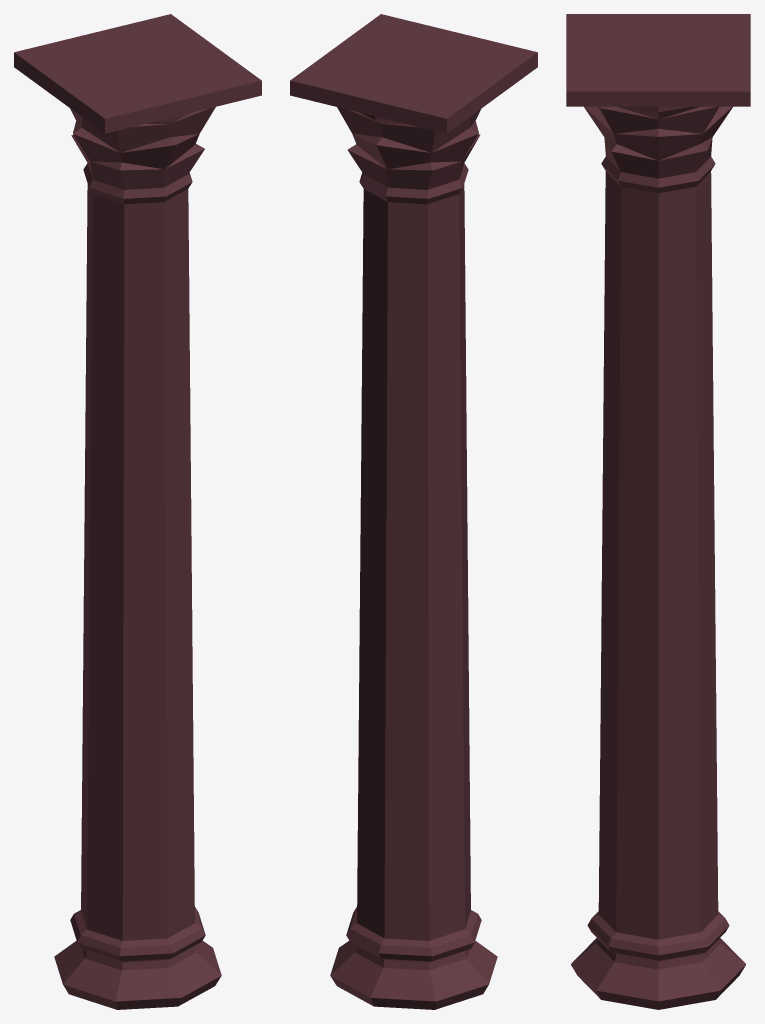
Rendered from SM_Pillar_Corinthian_Medium_Empire.fbx.
3 views of the same model, side by side, from view 1: azimuth 30°, elevation 25°; view 2: azimuth 150°, elevation 25°; view 3: azimuth 270°, elevation 25° (orthographic).
Visible parts, largest first — view 1: SM_Pillar_Corinthian_Medium_Empire; view 2: SM_Pillar_Corinthian_Medium_Empire; view 3: SM_Pillar_Corinthian_Medium_Empire.
Boxes of the visible parts, <box> form: SM_Pillar_Corinthian_Medium_Empire: <box>14,14,261,1009</box>; SM_Pillar_Corinthian_Medium_Empire: <box>290,14,537,1009</box>; SM_Pillar_Corinthian_Medium_Empire: <box>566,14,750,1009</box>.
Size of the model in its own units: 1.08 by 6 by 1.09.
